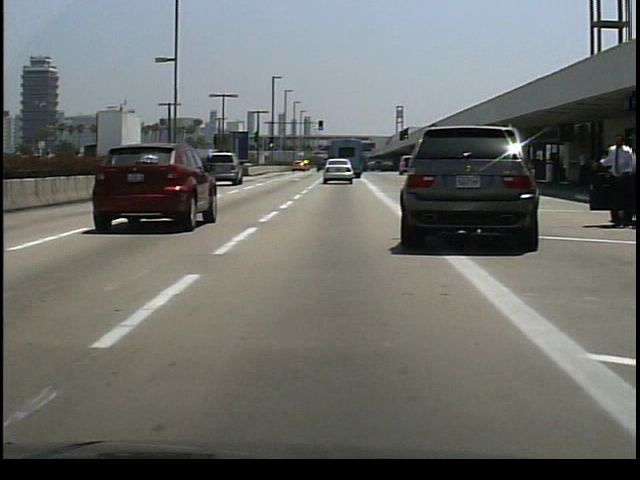person: (588, 130, 631, 228)
